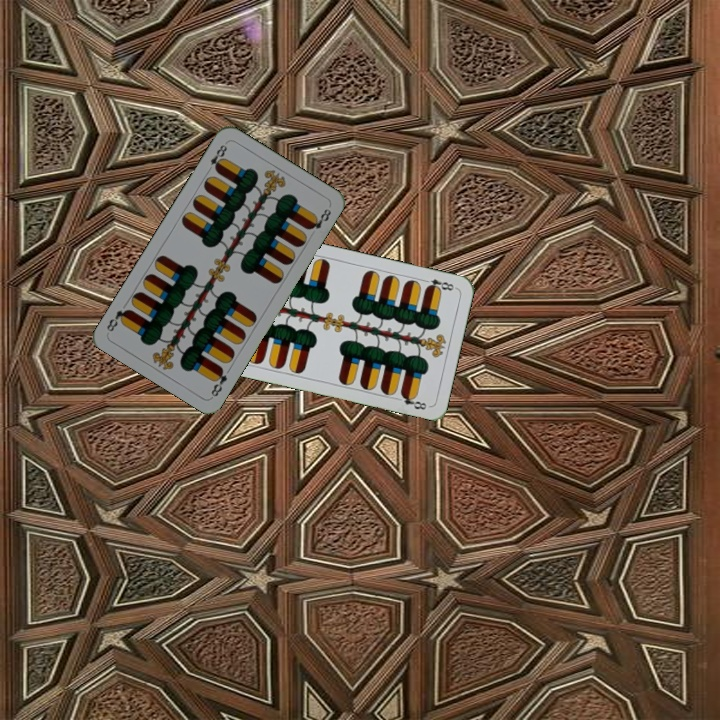E8: (203, 139, 230, 175), (207, 363, 230, 399), (418, 275, 458, 294)
